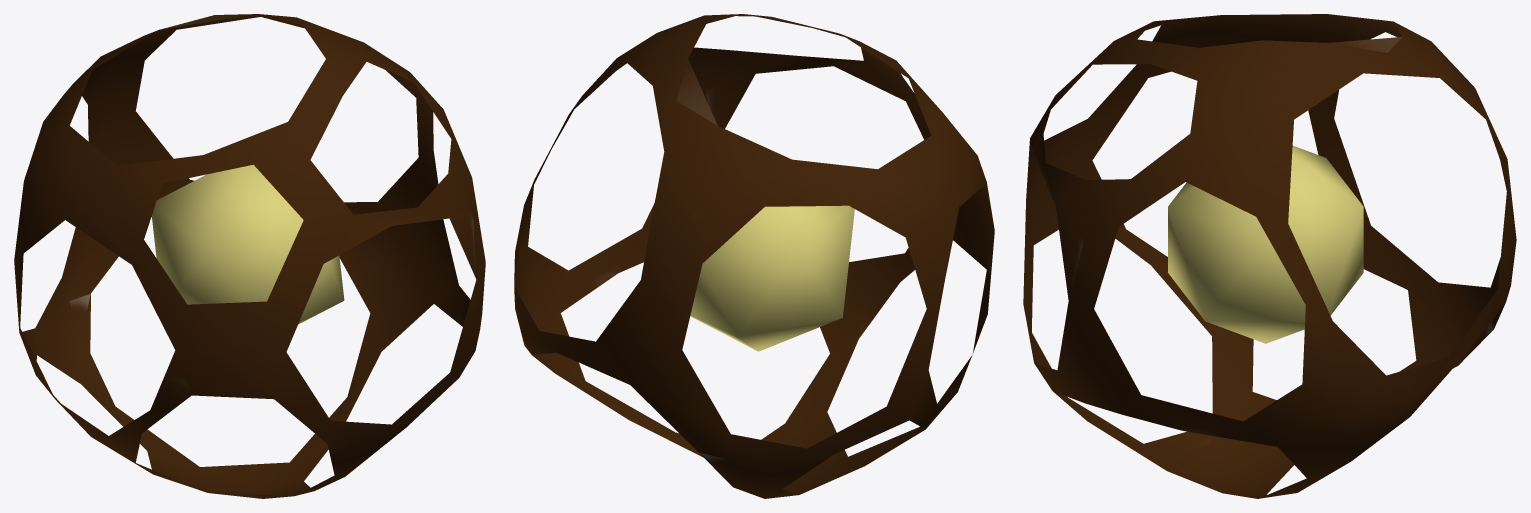
The model's file is LanternPod.glb.
The picture shows the model from 3 angles, left to right: view 1: azimuth 30°, elevation 25°; view 2: azimuth 150°, elevation 25°; view 3: azimuth 270°, elevation 25°; orthographic projection. The views are drawn at different scales.
Visible parts, largest first — view 1: Icosphere, Icosphere.001; view 2: Icosphere, Icosphere.001; view 3: Icosphere, Icosphere.001.
Boxes of the visible parts, x1,y1,x2,y2 form: Icosphere: [14, 14, 485, 498]; Icosphere.001: [152, 164, 344, 324]; Icosphere: [514, 14, 994, 498]; Icosphere.001: [690, 205, 854, 351]; Icosphere: [1023, 14, 1516, 498]; Icosphere.001: [1168, 145, 1363, 343].
Size of the model in its own units: 0.881 by 0.8967 by 0.8528.
2 materials, 2 textured.
